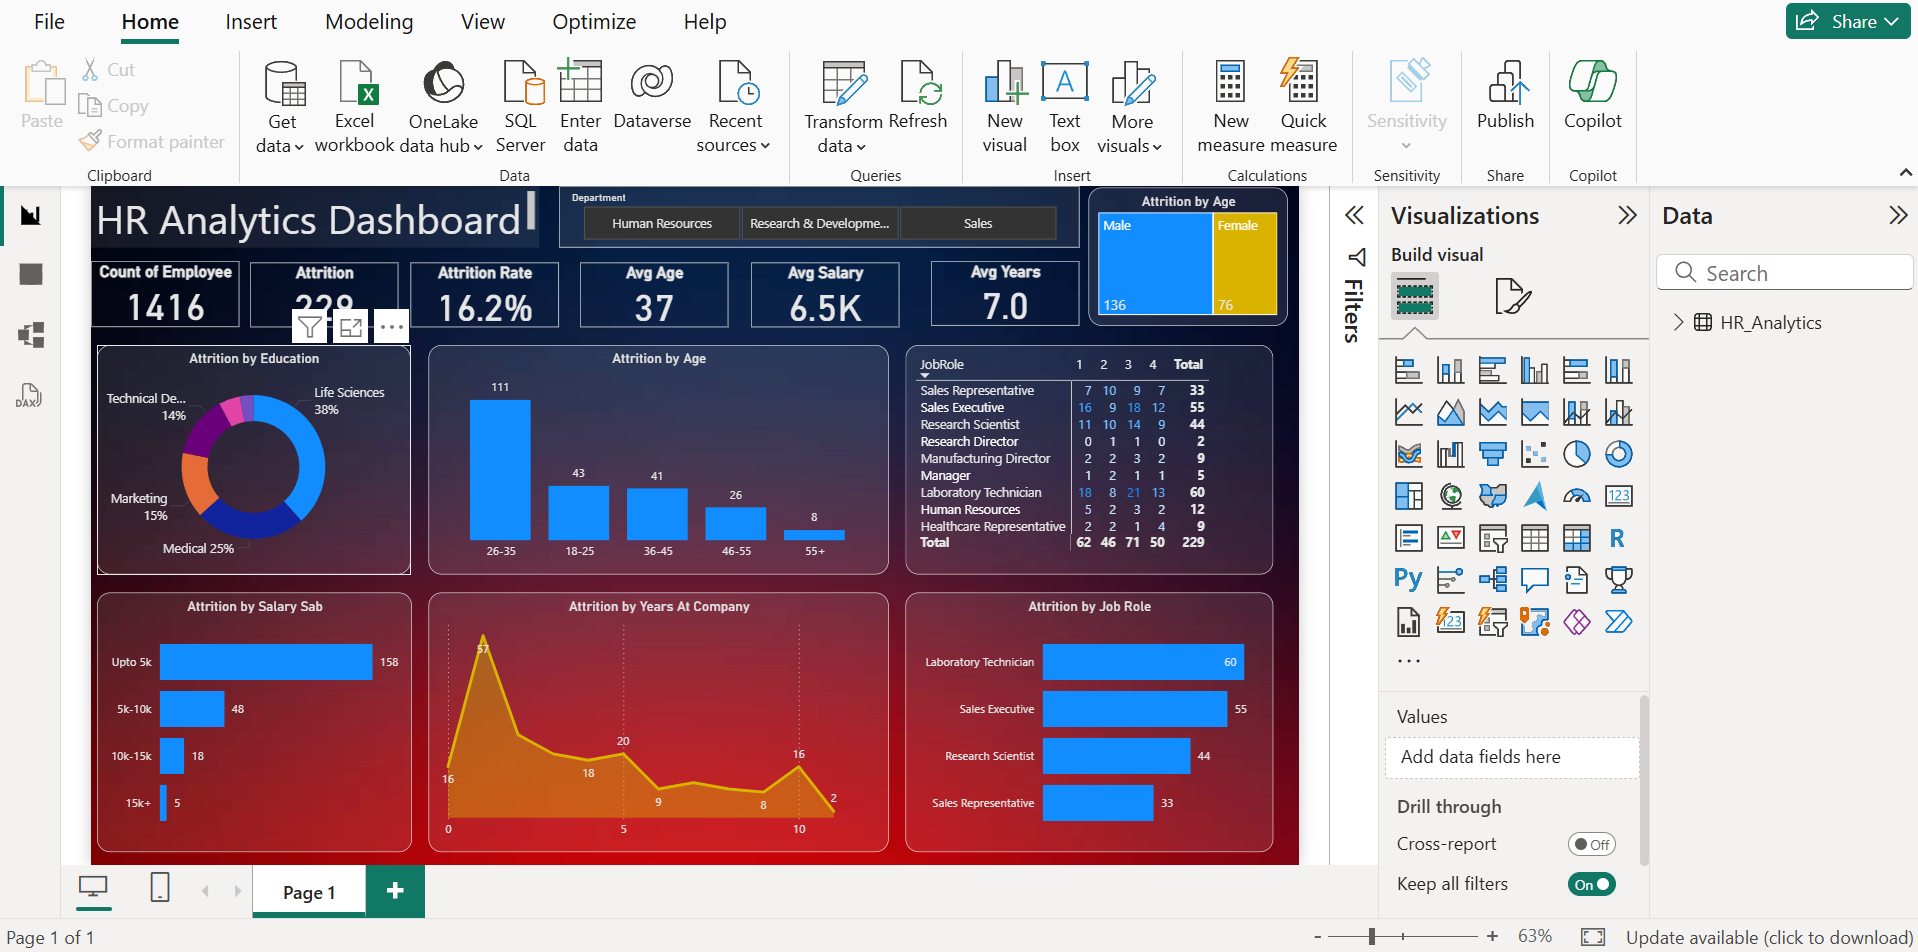

The dashboard page shown, as its layout file describes it:
{"tool":"powerbi","page":{"name":"Page 1","canvas":[1280,720],"ordinal":0},"visuals":[{"type":"card","title":"Count of Employee","fields":{"Values":["CountNonNull(HR_Analytics.EmpID)"]},"box":[0,79.5,157.5,70],"z":0},{"type":"card","title":"Attrition","fields":{"Values":["Sum(HR_Analytics.AttritionCount)"]},"box":[168.6,81.1,157.5,68.4],"z":1000},{"type":"card","title":"Attrition Rate","fields":{"Values":["HR_Analytics.AttritionRate"]},"box":[338.8,81.1,157.5,68.4],"z":2000},{"type":"card","title":"Avg Age","fields":{"Values":["Avg(HR_Analytics.Age)"]},"box":[518.5,81.1,157.5,68.4],"z":3000},{"type":"card","title":"Avg Years","fields":{"Values":["Avg(HR_Analytics.YearsAtCompany)"]},"box":[890.7,79.5,157.5,68.4],"z":4000},{"type":"card","title":"Avg Salary","fields":{"Values":["Avg(HR_Analytics.MonthlyIncome)"]},"box":[699.9,81.1,157.5,68.4],"z":5000},{"type":"donutChart","title":"Attrition by Education","fields":{"Category":["HR_Analytics.EducationField"],"Y":["Sum(HR_Analytics.AttritionCount)"]},"box":[6.4,168.6,332.4,243.4],"z":6000},{"type":"columnChart","title":"Attrition by Age","fields":{"Category":["HR_Analytics.AgeGroup"],"Y":["Sum(HR_Analytics.AttritionCount)"]},"box":[357.9,168.6,488.3,243.4],"z":7000},{"type":"pivotTable","fields":{"Rows":["HR_Analytics.JobRole"],"Columns":["HR_Analytics.JobSatisfaction"],"Values":["Sum(HR_Analytics.AttritionCount)"]},"box":[863.7,168.6,389.7,243.4],"z":8000},{"type":"barChart","title":"Attrition by Salary Sab","fields":{"Category":["HR_Analytics.SalarySlab"],"Y":["Sum(HR_Analytics.AttritionCount)"]},"box":[6.4,431.1,334,275.2],"z":9000},{"type":"barChart","title":"Attrition by Job Role","fields":{"Category":["HR_Analytics.JobRole"],"Y":["Sum(HR_Analytics.AttritionCount)"]},"box":[863.7,431.1,389.7,275.2],"z":10000},{"type":"areaChart","title":"Attrition by Years At Company","fields":{"Category":["HR_Analytics.YearsAtCompany"],"Y":["Sum(HR_Analytics.AttritionCount)"]},"box":[357.9,431.1,488.3,275.2],"z":11000},{"type":"treemap","title":"Attrition by Age","fields":{"Group":["HR_Analytics.Gender"],"Values":["Sum(HR_Analytics.AttritionCount)"]},"box":[1057.8,1.6,211.6,146.3],"z":12000},{"type":"slicer","fields":{"Values":["HR_Analytics.Department"]},"box":[496.3,0,551.9,65.2],"z":13000},{"type":"textbox","box":[0,0,475.6,65.2],"z":14000}]}

Visuals, with their boxes on the page's 1280x720 design canvas (x1, y1, x2, y2). These are canvas units, not pixel positions in the 1918x952 screenshot, which may show the page scaled, cropped or inside an application window:
"Count of Employee" card: (0,80,158,150)
"Attrition" card: (169,81,326,150)
"Attrition Rate" card: (339,81,496,150)
"Avg Age" card: (518,81,676,150)
"Avg Years" card: (891,80,1048,148)
"Avg Salary" card: (700,81,857,150)
"Attrition by Education" donutChart: (6,169,339,412)
"Attrition by Age" columnChart: (358,169,846,412)
pivotTable - HR_Analytics.JobRole x HR_Analytics.JobSatisfaction: (864,169,1253,412)
"Attrition by Salary Sab" barChart: (6,431,340,706)
"Attrition by Job Role" barChart: (864,431,1253,706)
"Attrition by Years At Company" areaChart: (358,431,846,706)
"Attrition by Age" treemap: (1058,2,1269,148)
slicer - HR_Analytics.Department: (496,0,1048,65)
textbox: (0,0,476,65)
